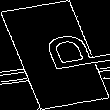P_W: (9, 31, 101, 79)
